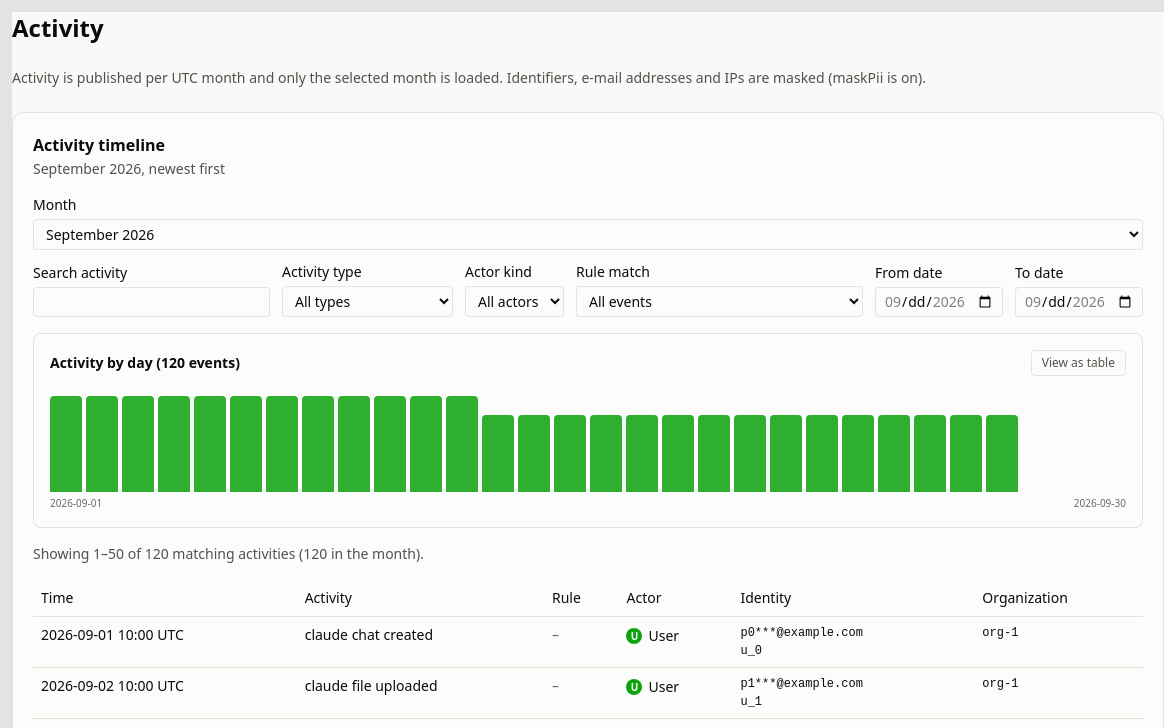
Activity page › renders daily activity chart and toggles to table view
This screenshot has width=1164, height=728.
Expected: the picture named "Daily activity bar chart" is shown, top-left (50, 388), bottom-right (1126, 511)
Click the button "View as table".
click(1078, 363)  # box top-left (1031, 350), bottom-right (1126, 376)
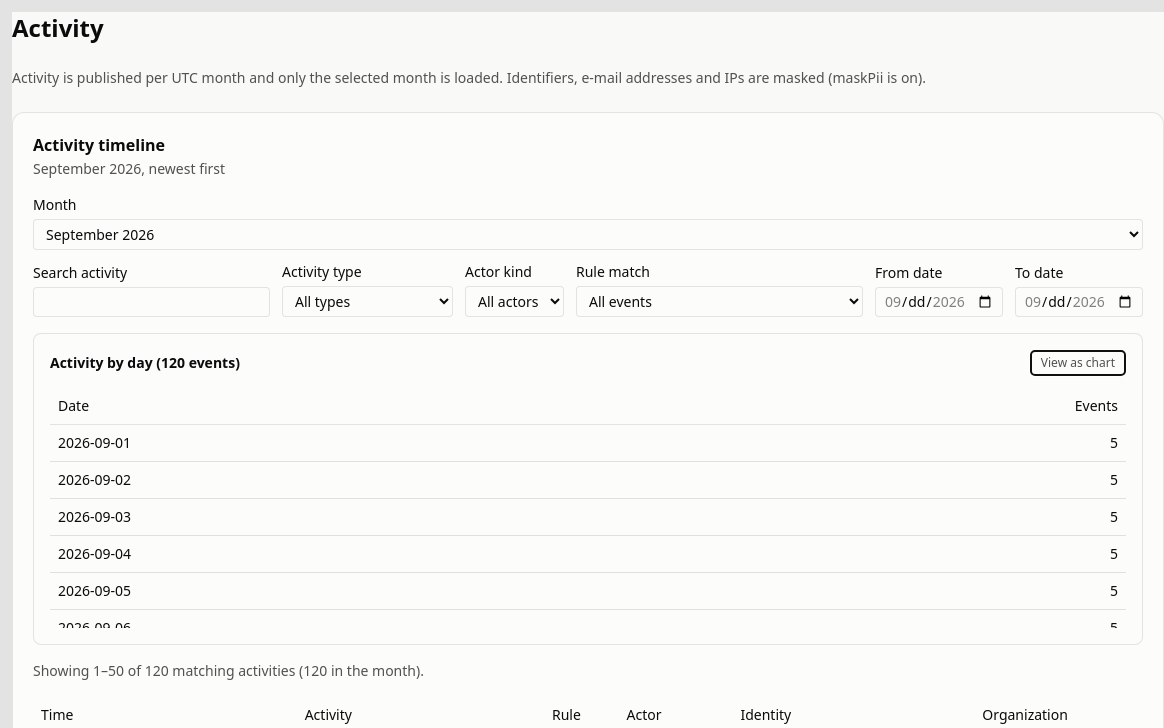
Expected: the button "View as chart" is shown
Click the button "View as chart".
click(1078, 363)  # box top-left (1030, 350), bottom-right (1126, 376)
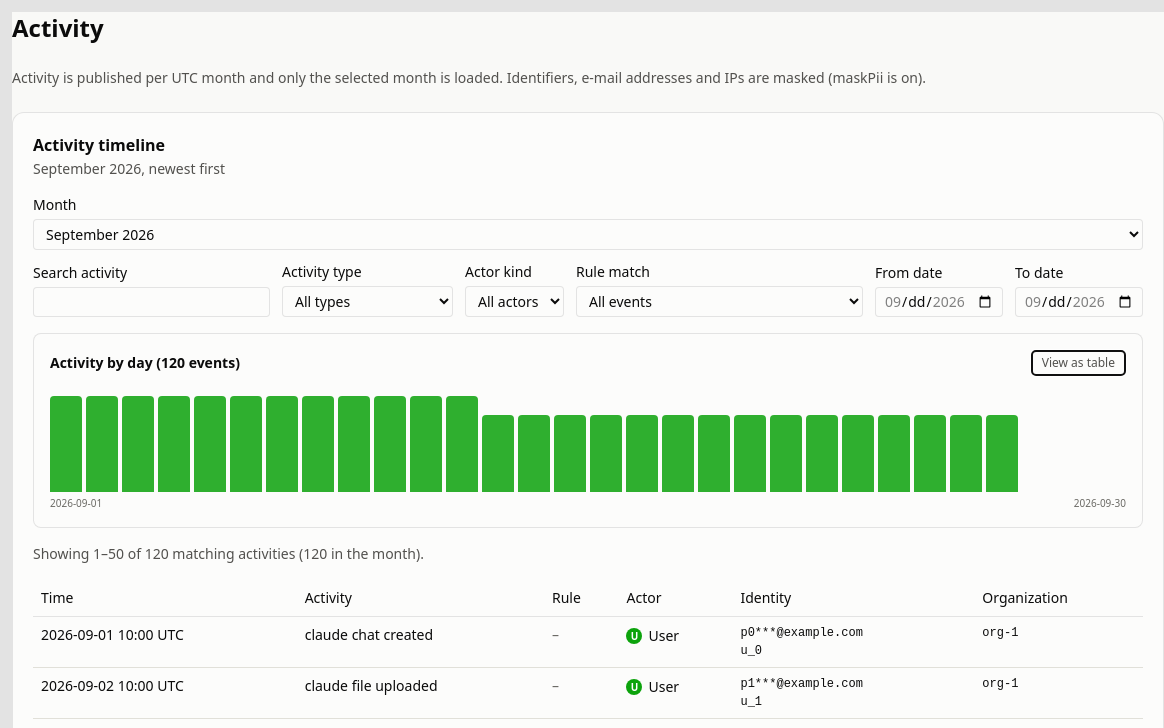
Expected: the picture named "Daily activity bar chart" is shown, top-left (50, 388), bottom-right (1126, 511)
